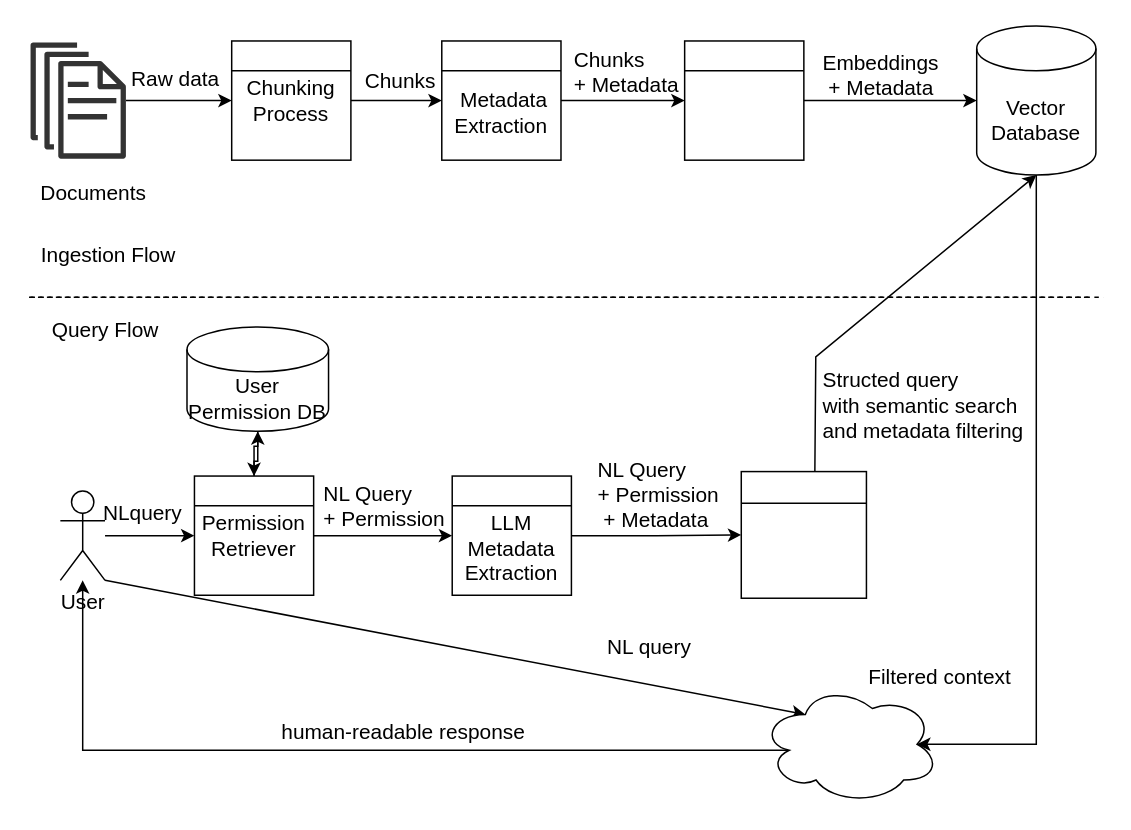
Some shapes in this 1131 by 830 pixel diagram are drawn without their labels. The centre of each missing label's shape, as x and y in pixels:
Embedding Generation: the point at 743,99
LLM: the point at 849,743
Metadata-Aware Query Constructor: the point at 803,534
